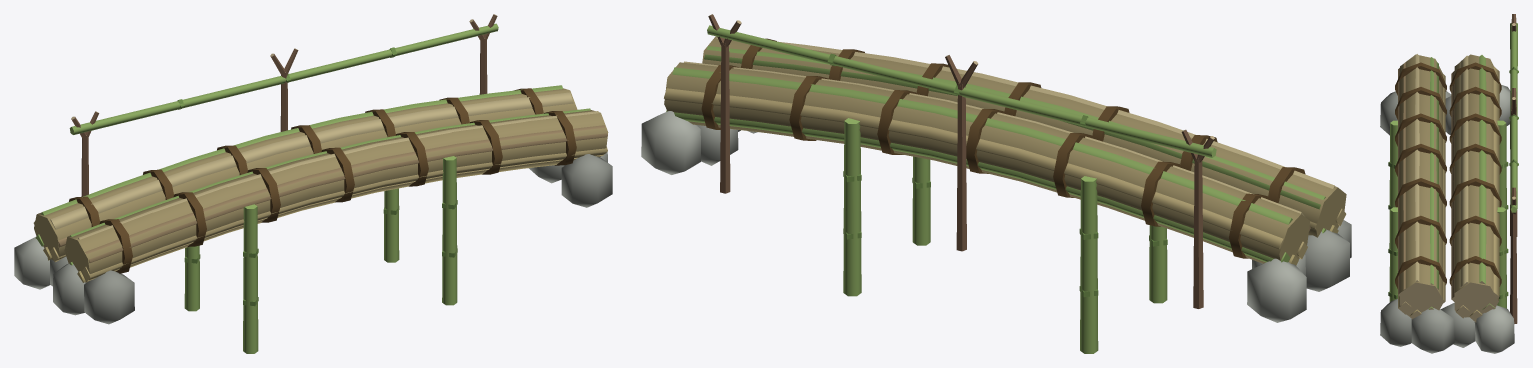
The model's file is bridge.glb.
3 views of the same model, side by side, from view 1: azimuth 30°, elevation 25°; view 2: azimuth 150°, elevation 25°; view 3: azimuth 270°, elevation 25° (orthographic). The views are drawn at different scales.
Parts seen in each view (by area): view 1: body, body_nl; view 2: body, body_nl; view 3: body, body_nl.
Boxes of the visible parts, box(x1,y1,x2,y2) form: body: box(14, 85, 612, 324); body_nl: box(33, 14, 498, 353); body: box(641, 36, 1351, 322); body_nl: box(707, 14, 1346, 353); body: box(1380, 54, 1514, 353); body_nl: box(1388, 14, 1518, 323).
Size of the model in its own units: 4.16 by 1.64 by 1.01.
